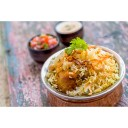briyani: (53, 47, 116, 95)
